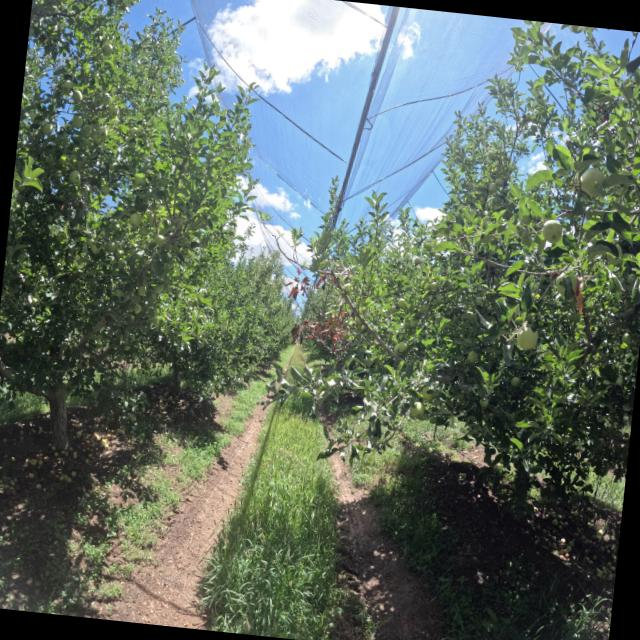-FireBlight-: (288, 316, 349, 349), (290, 321, 348, 352), (284, 268, 310, 302), (326, 309, 350, 325), (314, 272, 330, 290)
